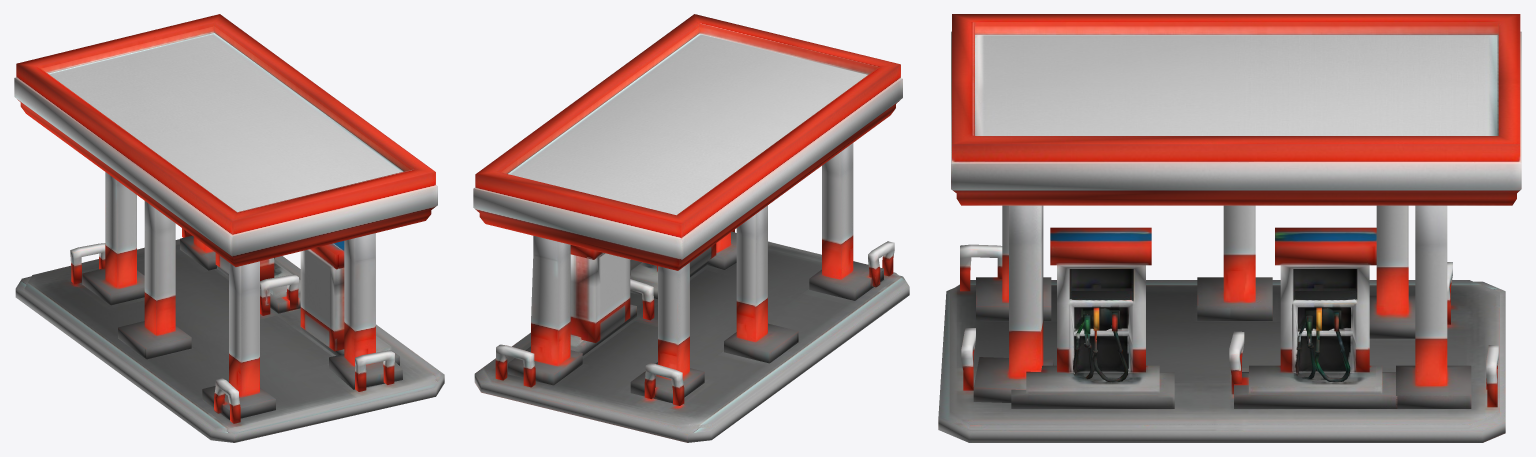
File: gas+station+3d+model.glb
The picture shows the model from 3 angles, left to right: view 1: azimuth 30°, elevation 25°; view 2: azimuth 150°, elevation 25°; view 3: azimuth 270°, elevation 25°; orthographic projection. The views are drawn at different scales.
Parts seen in each view (by area): view 1: tripo_node_c52e61b4-79f4-45fc-919f-1341505438dc; view 2: tripo_node_c52e61b4-79f4-45fc-919f-1341505438dc; view 3: tripo_node_c52e61b4-79f4-45fc-919f-1341505438dc.
Part boxes in pixels (x1=…): tripo_node_c52e61b4-79f4-45fc-919f-1341505438dc: x1=14, y1=14, x2=444, y2=442; tripo_node_c52e61b4-79f4-45fc-919f-1341505438dc: x1=473, y1=14, x2=909, y2=442; tripo_node_c52e61b4-79f4-45fc-919f-1341505438dc: x1=938, y1=14, x2=1521, y2=442.
Size of the model in its own units: 0.6074 by 0.5449 by 0.998.
1 material, 1 textured.
